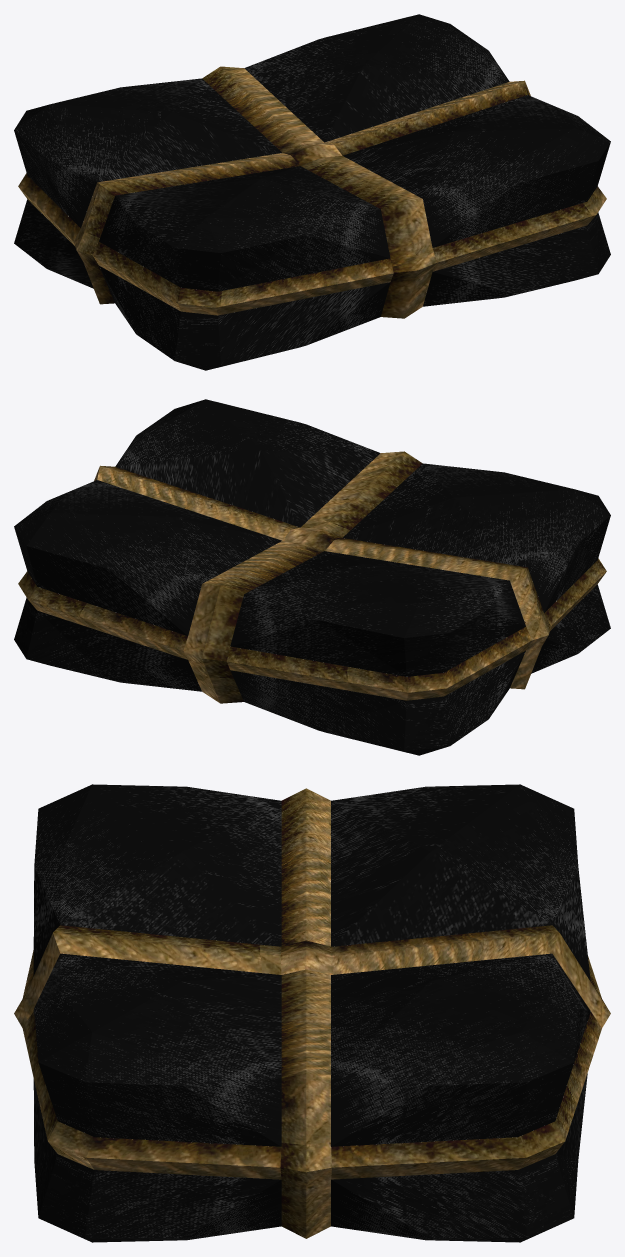
Rendered from KM_ITMI_PACKET_08.glb.
3 renders of one model, top to bottom at view 1: azimuth 30°, elevation 25°; view 2: azimuth 150°, elevation 25°; view 3: azimuth 270°, elevation 25°, orthographic. The views are drawn at different scales.
Parts seen in each view (by area): view 1: KM_ITMI_PACKET_08; view 2: KM_ITMI_PACKET_08; view 3: KM_ITMI_PACKET_08.
Part boxes in pixels (x1=…): KM_ITMI_PACKET_08: x1=14, y1=14, x2=610, y2=370; KM_ITMI_PACKET_08: x1=14, y1=399, x2=610, y2=755; KM_ITMI_PACKET_08: x1=14, y1=784, x2=610, y2=1242.
Size of the model in its own units: 0.4578 by 0.1414 by 0.364.
2 materials, 2 textured.
